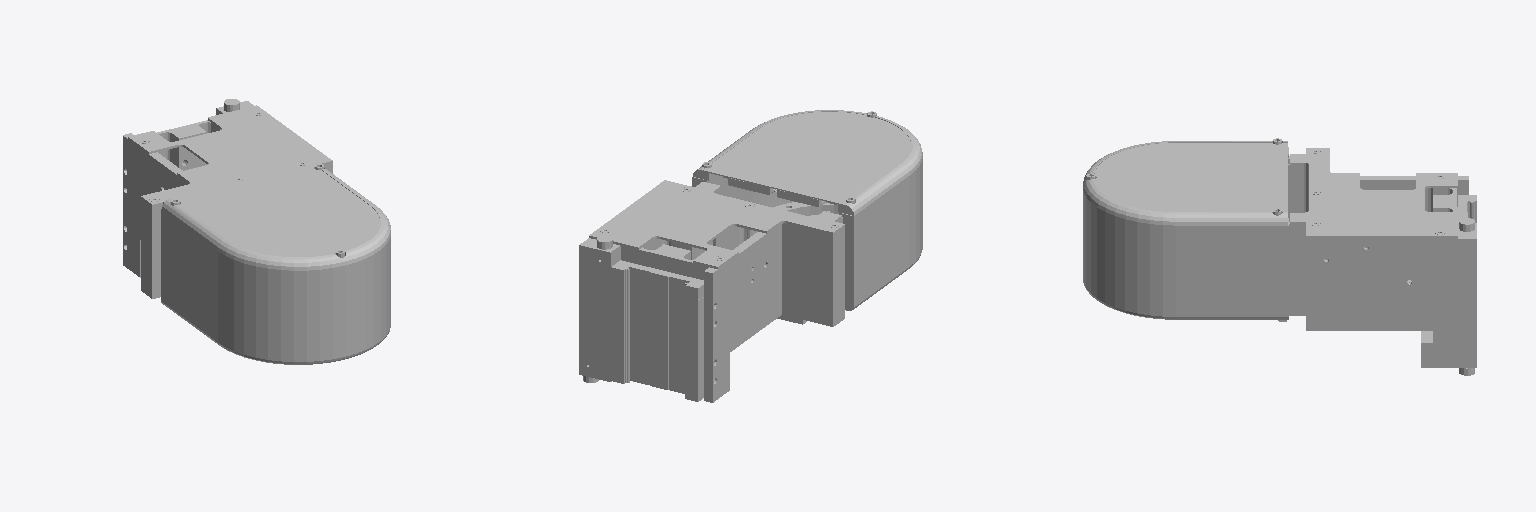
The model's file is Carriage.obj.
3 renders of one model, left to right at view 1: azimuth 30°, elevation 25°; view 2: azimuth 150°, elevation 25°; view 3: azimuth 270°, elevation 25°, orthographic.
Visible parts, largest first — view 1: Srf1; view 2: Srf1; view 3: Srf1.
Boxes of the visible parts, <box> form: Srf1: <box>123,99,390,364</box>; Srf1: <box>579,110,922,402</box>; Srf1: <box>1083,138,1476,375</box>.
Size of the model in its own units: 123 by 98.76 by 233.